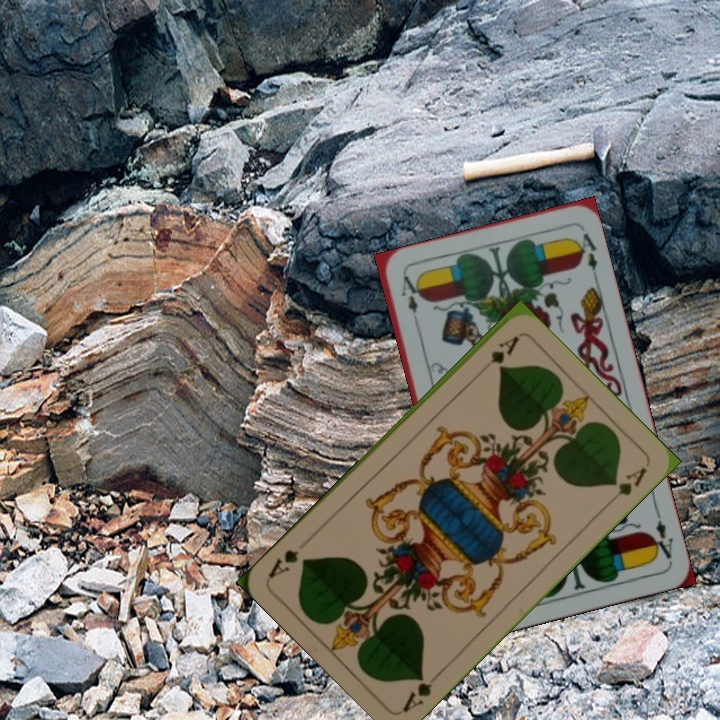EA: (647, 505, 676, 561), (396, 271, 421, 316)
GA: (399, 666, 444, 715), (486, 332, 522, 367)
